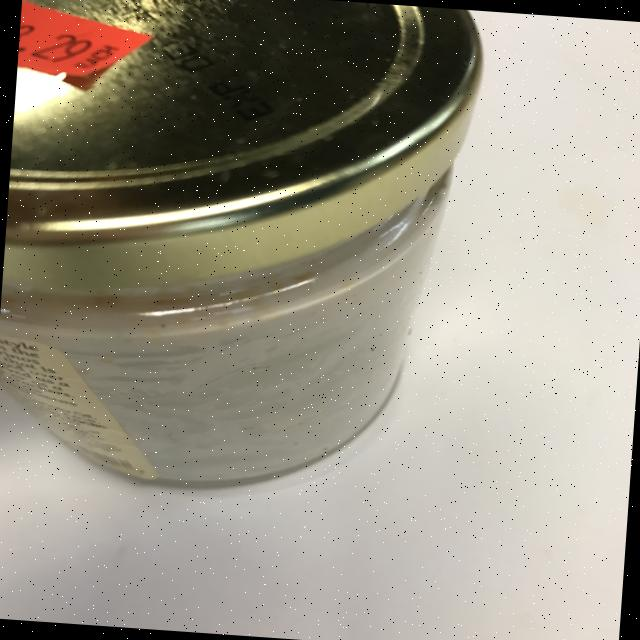glass: (0, 0, 479, 506)
